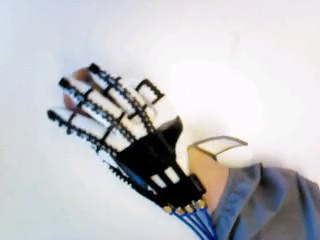apple: (61, 65, 118, 118)
hand: (47, 68, 205, 209)
